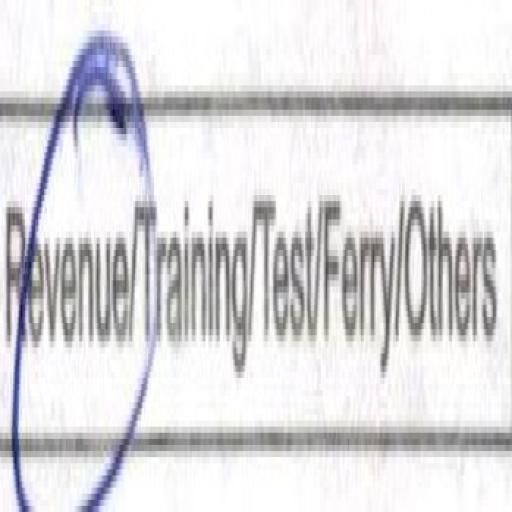check: (0, 12, 134, 512)
